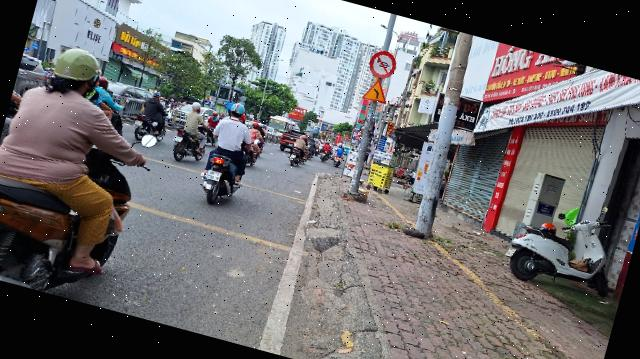cam-bop-coi: (366, 46, 400, 82)
cho-ngoat-nguy-hiem-ben-trai: (362, 75, 392, 104)
